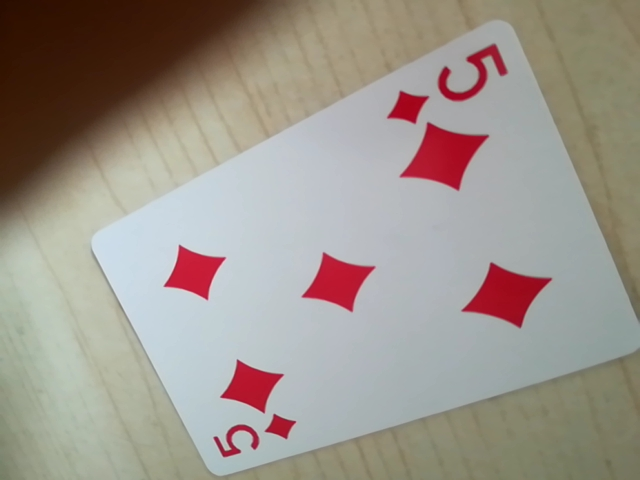fk 5: (387, 39, 508, 128), (209, 408, 300, 466)
